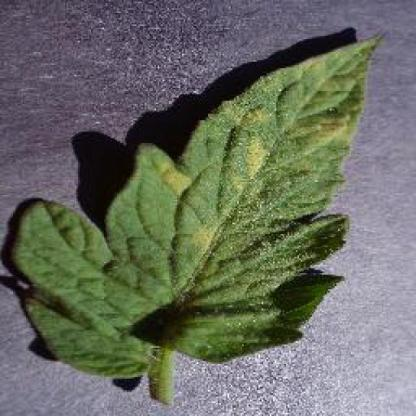Tomato_Leaf_Mold: (8, 35, 378, 378)
